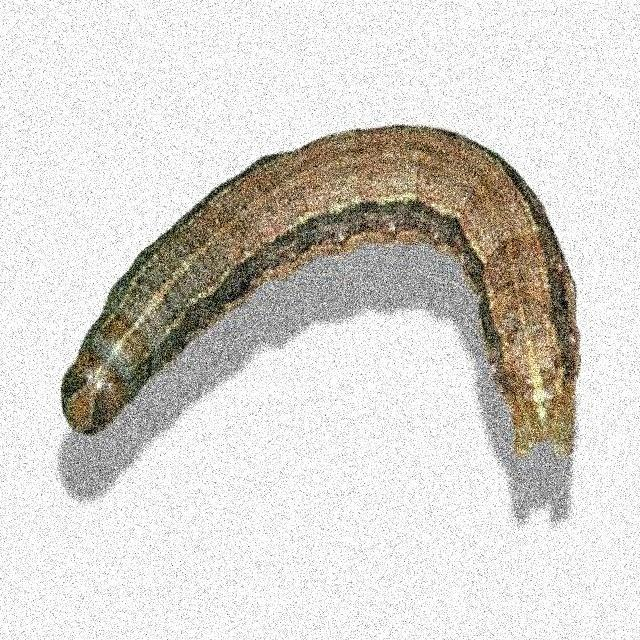worm: (60, 123, 582, 524)
